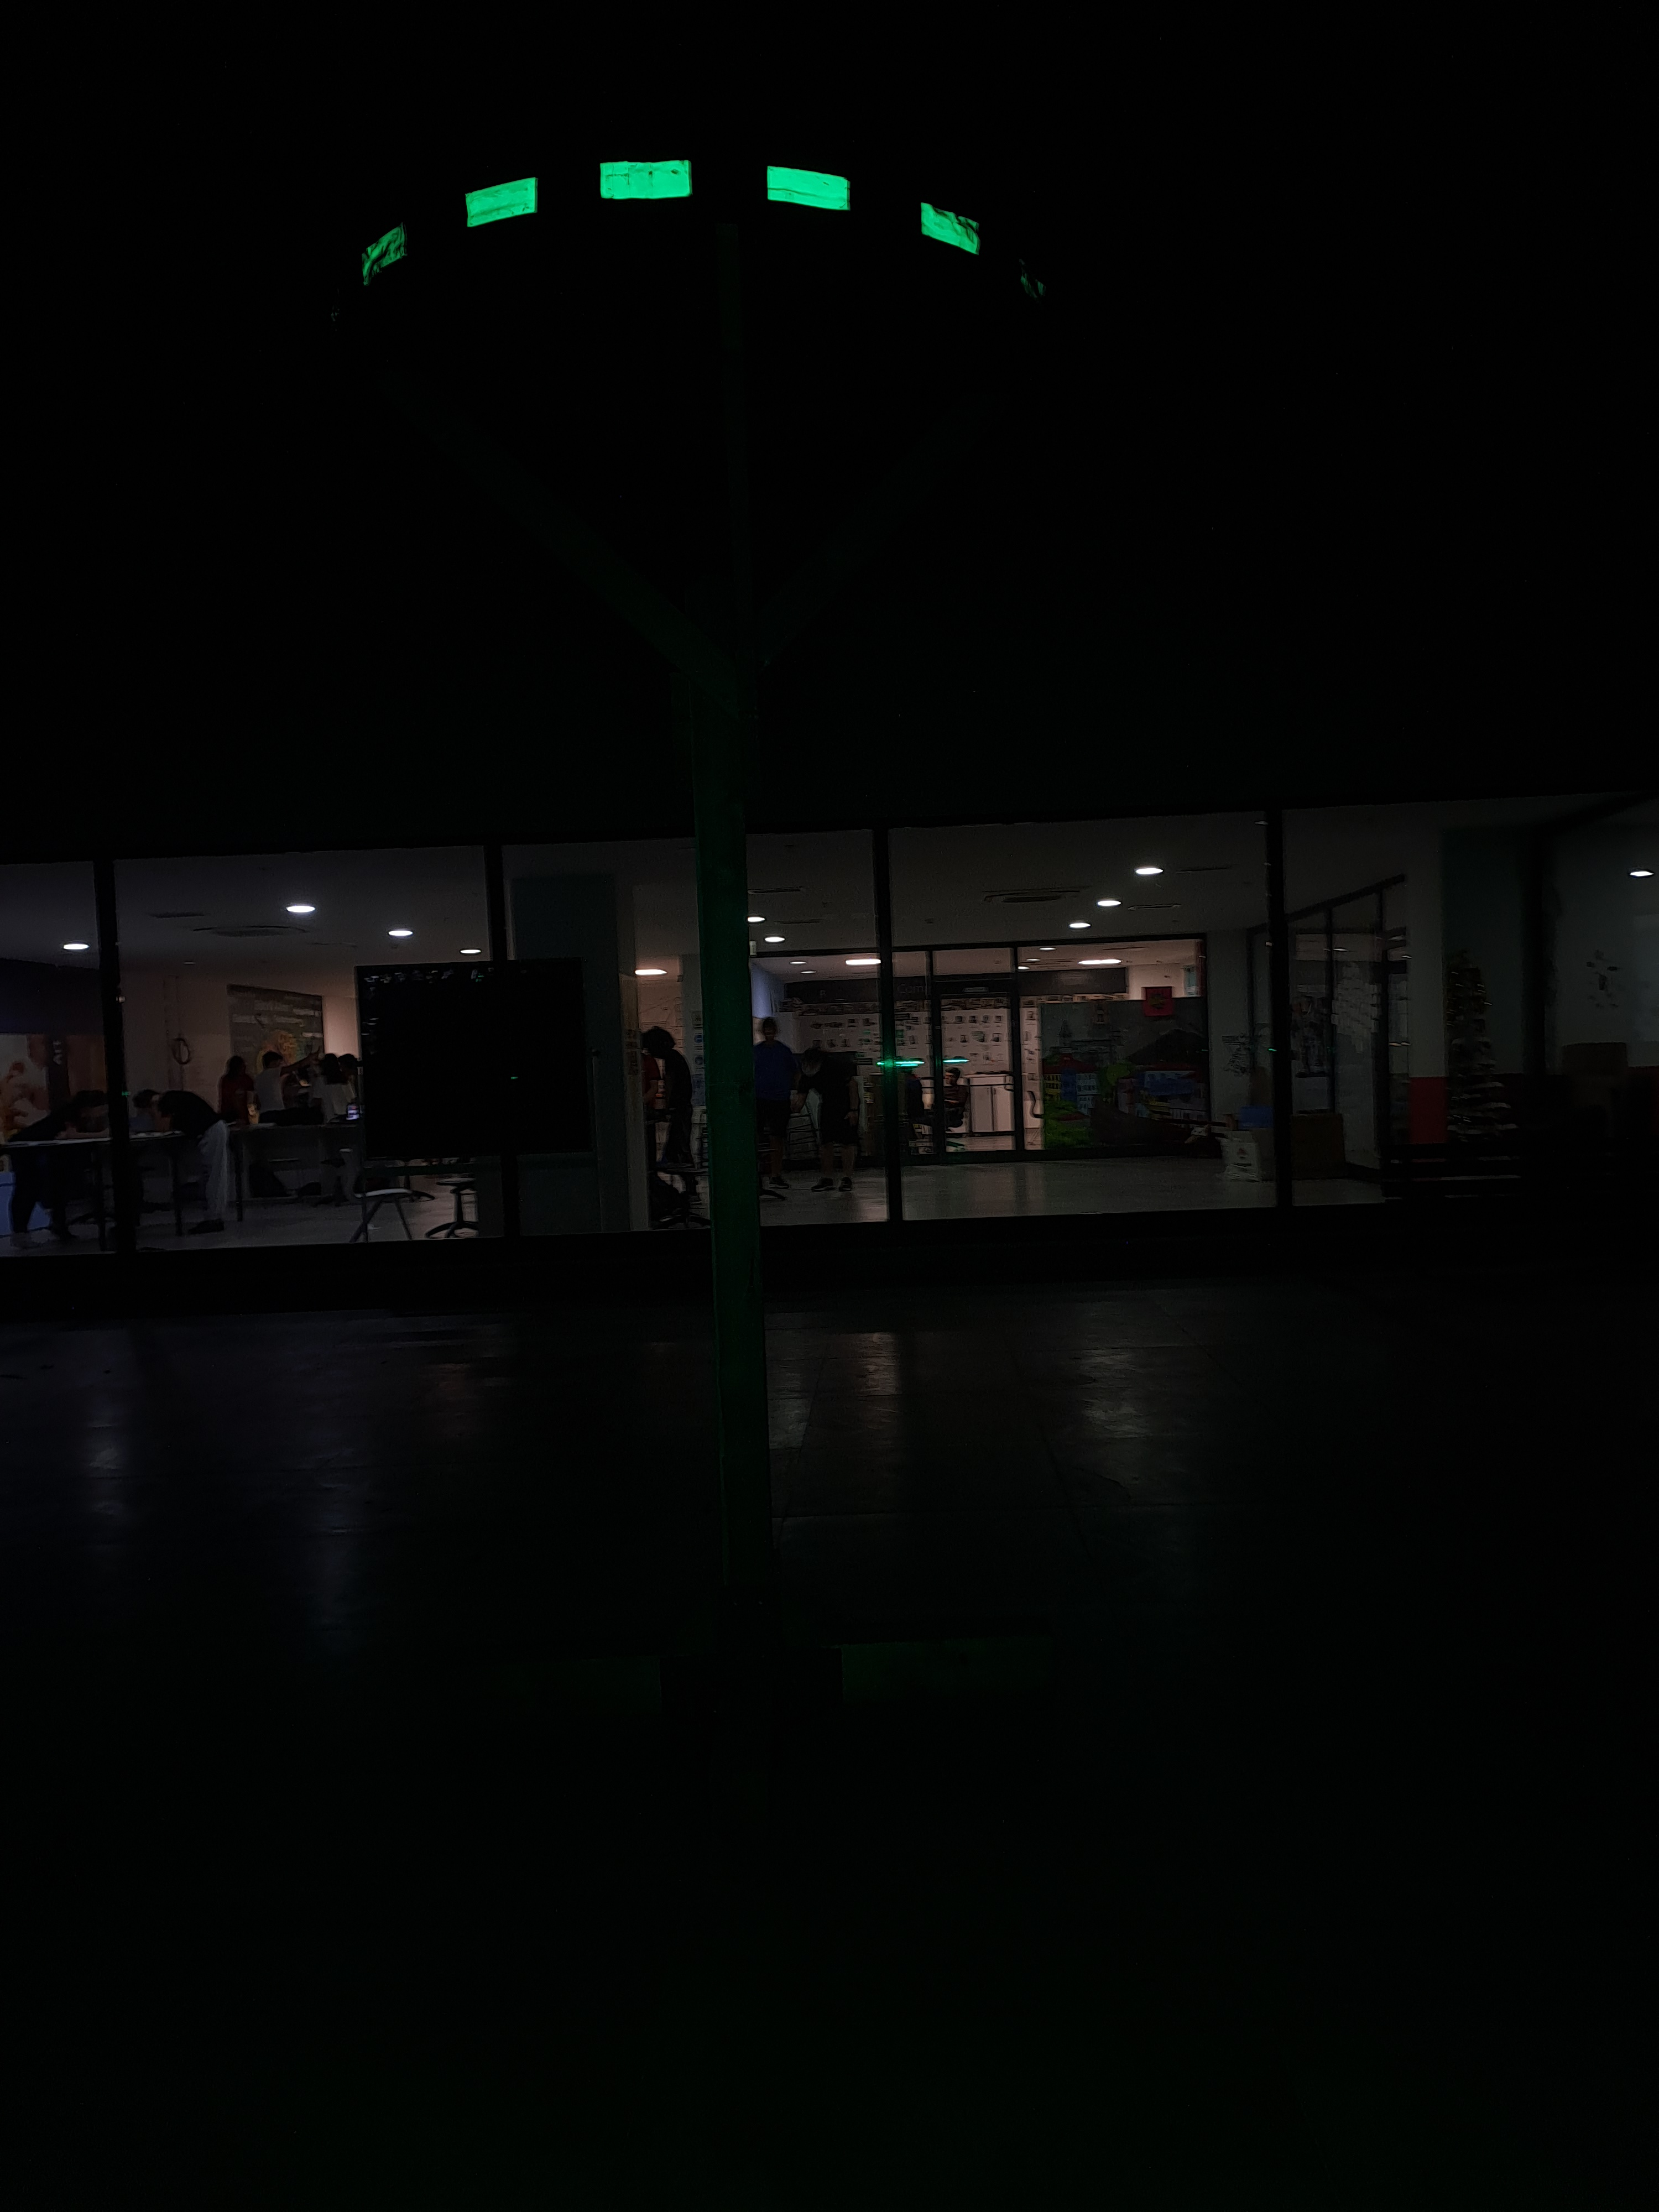hoop: (362, 158, 985, 291)
